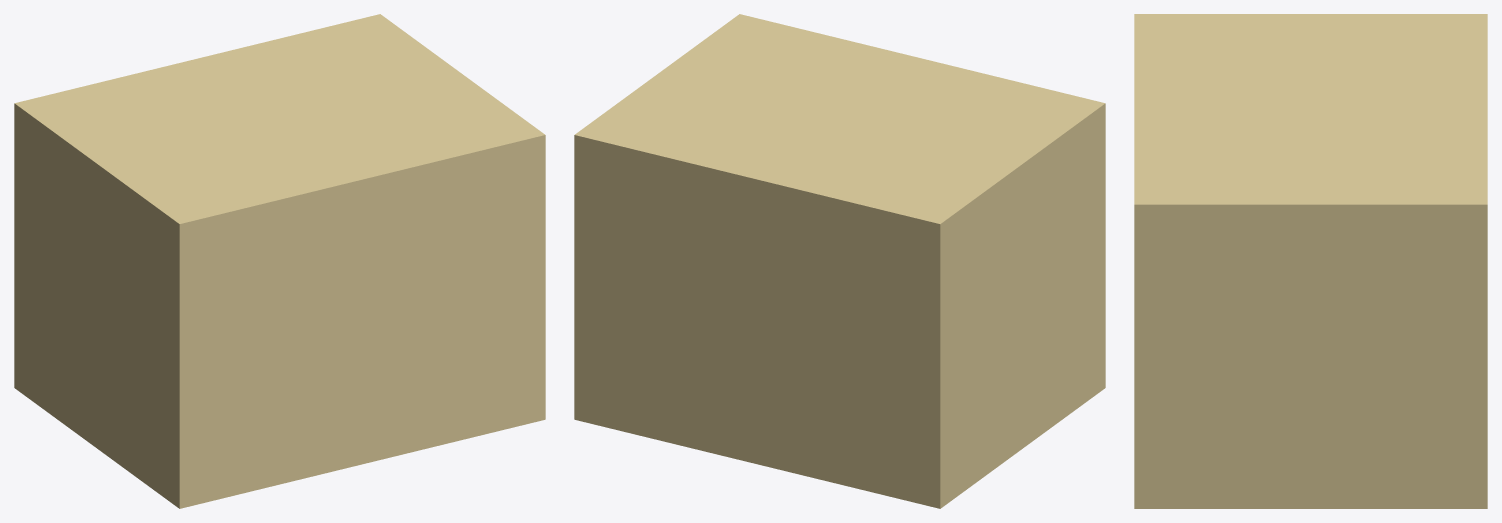
3 renders of one model, left to right at view 1: azimuth 30°, elevation 25°; view 2: azimuth 150°, elevation 25°; view 3: azimuth 270°, elevation 25°, orthographic. The views are drawn at different scales.
Visible parts, largest first — view 1: lod3-envelope; view 2: lod3-envelope; view 3: lod3-envelope.
Boxes of the visible parts, x1,y1,x2,y2 form: lod3-envelope: [14, 14, 545, 508]; lod3-envelope: [574, 14, 1105, 508]; lod3-envelope: [1134, 14, 1487, 508].
Size of the model in its own units: 7.8 by 5.8 by 6.1.
